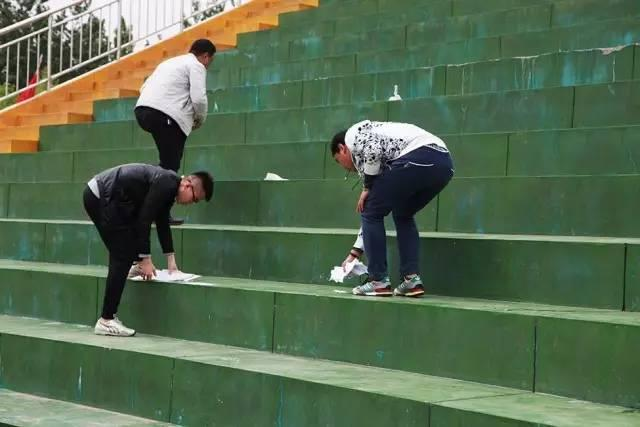bending: (327, 118, 464, 304), (82, 161, 211, 336), (131, 34, 221, 166)
